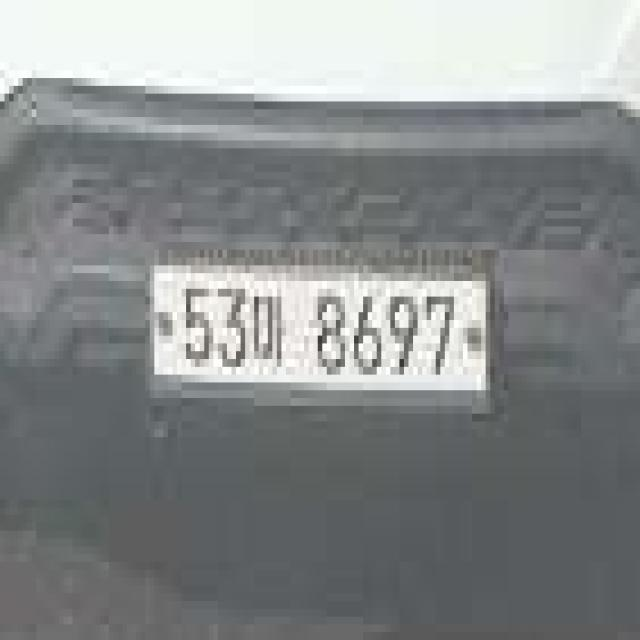3: (209, 258, 254, 382)
5: (177, 265, 218, 375)
6: (340, 281, 390, 382)
7: (417, 281, 454, 375)
8: (309, 288, 354, 374)
9: (381, 273, 418, 383)
license_plate: (141, 250, 499, 421)
ma: (250, 273, 295, 375)
